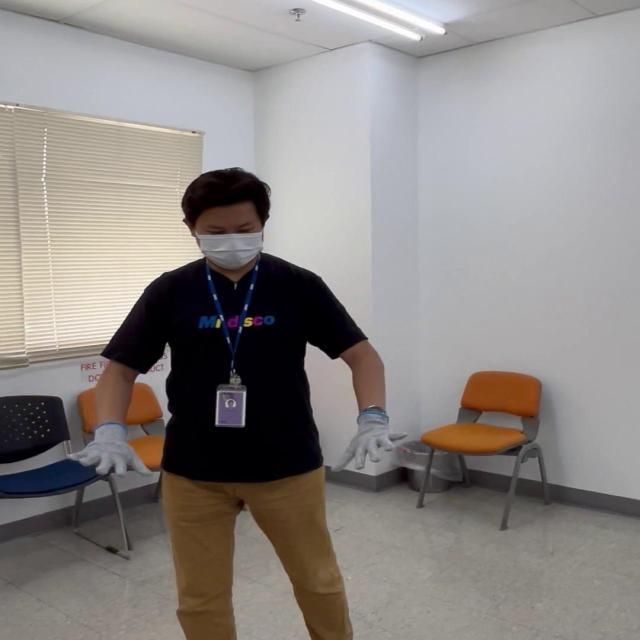gloved_hand: (321, 406, 405, 474), (70, 422, 148, 481)
